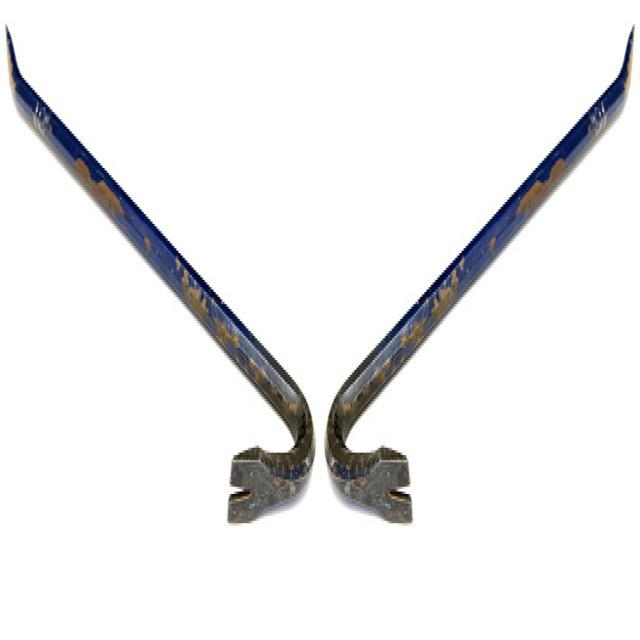Linggis: (1, 16, 317, 554), (326, 10, 638, 548)
